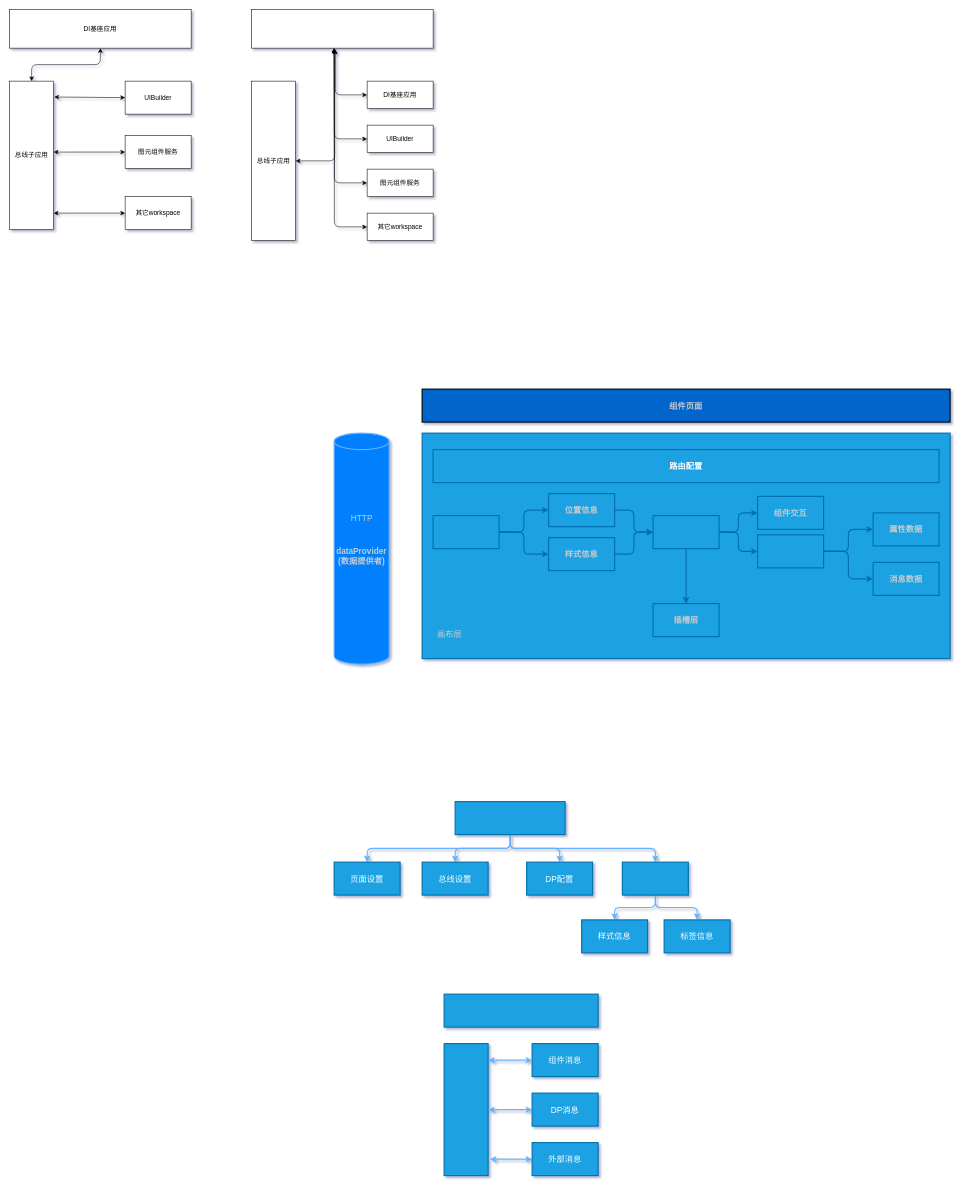
The diagram is 964 pixels wide and 1189 high, and some of its shapes have lost their labels. The shapes that lost their labels are listed below. From the top down, each one's centre as x and y in pixels, then its label:
the point at 342,28: 仓库应用
the point at 465,532: 拖拽层
the point at 685,532: 组件层
the point at 790,551: 数据处理
the point at 509,818: CONFIG页面配置文件
the point at 655,878: 组件信息
the point at 520,1010: dispatchEvent(事件调度)
the point at 465,1109: 事件总线
